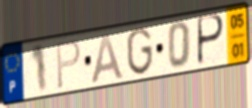0: (166, 20, 193, 71)
1: (29, 42, 49, 96)
A: (90, 32, 127, 86)
G: (125, 25, 155, 76)
P: (196, 13, 227, 68), (55, 38, 83, 91)
